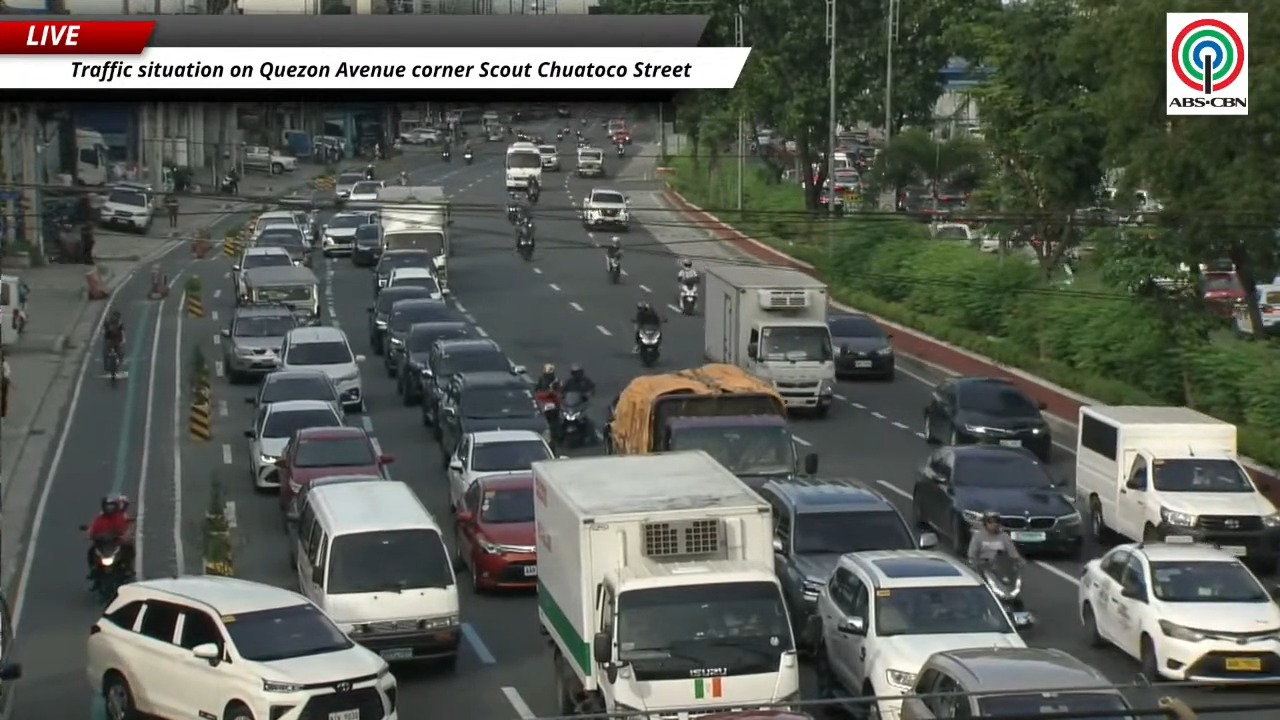bus: (505, 142, 541, 190)
car: (86, 575, 397, 719), (815, 550, 1025, 716), (757, 478, 936, 639), (1078, 542, 1279, 684), (912, 445, 1083, 556), (900, 648, 1132, 719), (923, 376, 1052, 462), (437, 371, 549, 468), (276, 427, 392, 512), (422, 338, 524, 432), (284, 474, 389, 564), (454, 474, 535, 590), (245, 400, 342, 490), (447, 429, 554, 507), (281, 326, 365, 411), (397, 322, 477, 405), (383, 299, 463, 376), (220, 305, 296, 383), (245, 369, 344, 416), (827, 313, 895, 379), (368, 286, 431, 353), (232, 247, 292, 301), (99, 185, 153, 233), (251, 222, 311, 265), (373, 249, 433, 292), (322, 212, 375, 256), (1199, 270, 1245, 319), (582, 188, 630, 230), (384, 266, 446, 298), (1255, 283, 1279, 337), (351, 223, 381, 266), (252, 210, 302, 234), (930, 222, 980, 245), (335, 171, 366, 200), (292, 210, 319, 241), (347, 180, 384, 202), (400, 126, 439, 145), (538, 144, 560, 171), (611, 129, 631, 144), (555, 104, 571, 118)
motorcycle: (979, 552, 1034, 630), (93, 536, 132, 604), (556, 391, 591, 447), (535, 389, 561, 436), (637, 326, 661, 367), (516, 223, 534, 261), (104, 344, 120, 386), (679, 283, 698, 316), (606, 255, 620, 283), (220, 174, 238, 193), (507, 203, 520, 224), (526, 183, 539, 203), (364, 166, 375, 180), (398, 171, 408, 185), (441, 149, 450, 161), (464, 151, 472, 164), (616, 145, 624, 157), (556, 132, 564, 141), (580, 118, 587, 126)
truck: (533, 451, 798, 717), (1075, 405, 1279, 573), (602, 364, 817, 487), (703, 264, 835, 416), (374, 185, 452, 290), (74, 127, 109, 185), (241, 145, 297, 174), (576, 147, 604, 177)
